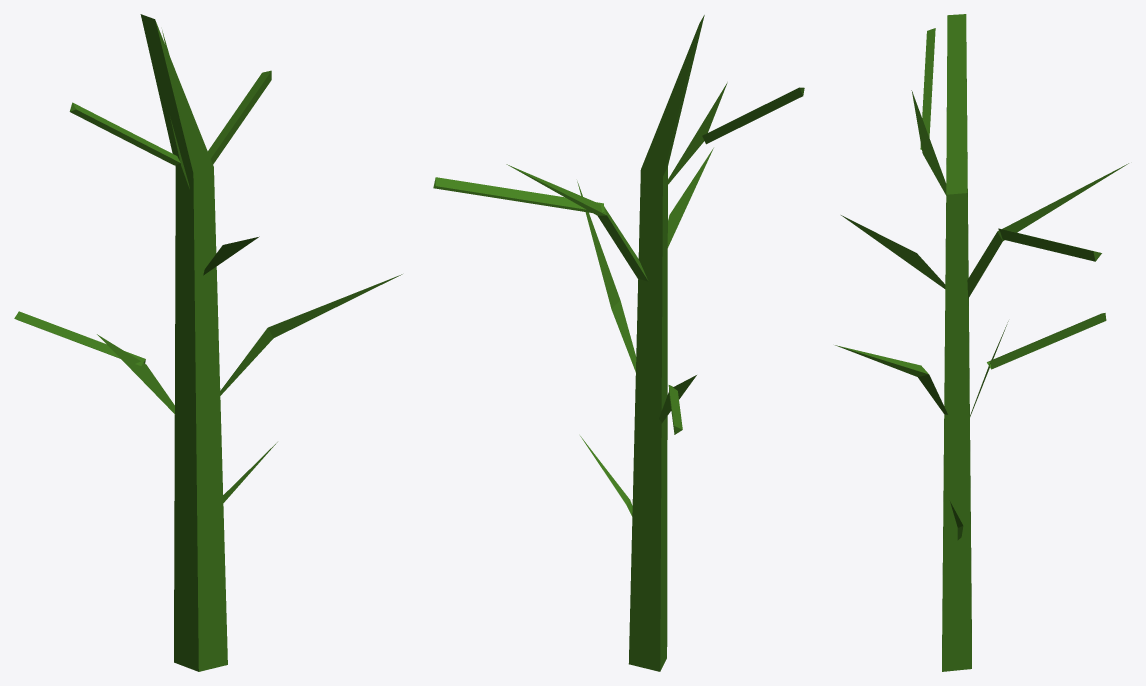
Rendered from ErvaMoura_-_Copia (1).fbx.
3 views of the same model, side by side, from view 1: azimuth 30°, elevation 25°; view 2: azimuth 150°, elevation 25°; view 3: azimuth 270°, elevation 25° (orthographic). The views are drawn at different scales.
Parts seen in each view (by area): view 1: galho; view 2: galho; view 3: galho.
Part boxes in pixels (<box>): galho: <box>14,14,402,671</box>; galho: <box>433,15,804,671</box>; galho: <box>835,14,1128,671</box>.
Bounding box in the file's own units: 22.05 × 48.45 × 20.96.
